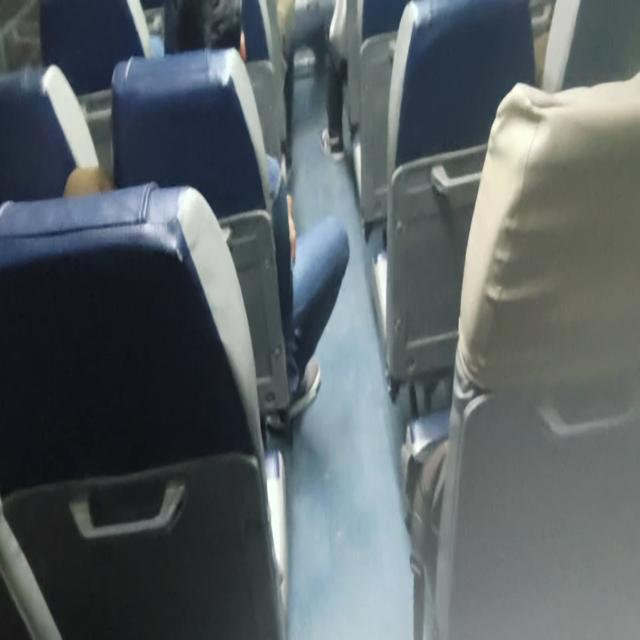person: (183, 0, 256, 58)
